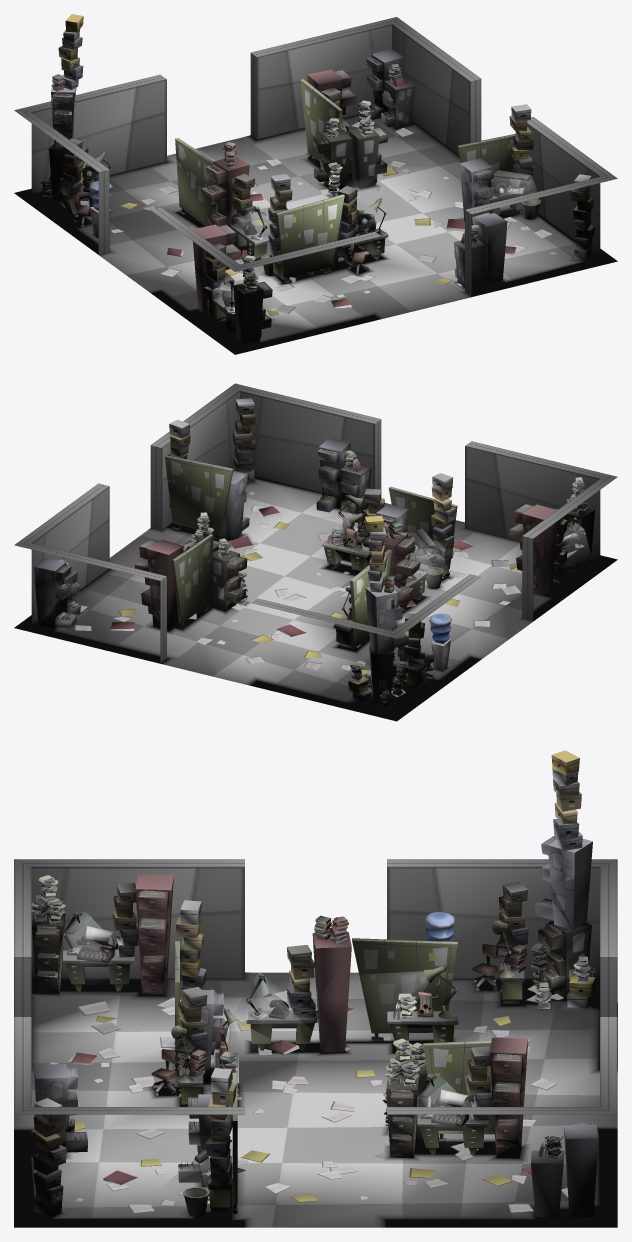
File: field_maze_quadrant2.glb
The picture shows the model from 3 angles, top to bottom: view 1: azimuth 30°, elevation 25°; view 2: azimuth 150°, elevation 25°; view 3: azimuth 270°, elevation 25°; orthographic projection. The views are drawn at different scales.
Visible parts, largest first — view 1: maze_floor, maze1_grouping1, maze3_grouping3, maze2_grouping2, maze6_grouping6, maze4_grouping4, maze5_grouping5, maze7_floorPaperGrouping, maze4_floorShadow_grouping4, maze3_floorShadow_grouping3, maze2_floorShadow_grouping2, maze1_floorShadow_grouping1 (+4 smaller); view 2: maze_floor, maze3_grouping3, maze1_grouping1, maze4_grouping4, maze2_grouping2, maze6_grouping6, maze7_floorPaperGrouping, maze5_grouping5, maze2_floorShadow_grouping2, maze1_floorShadow_grouping1, maze4_floorShadow_grouping4, maze6_lightConeSm (+8 smaller); view 3: maze_floor, maze2_grouping2, maze4_grouping4, maze1_grouping1, maze5_grouping5, maze3_grouping3, maze7_floorPaperGrouping, maze6_grouping6, maze1_floorShadow_grouping1, maze3_floorShadow_grouping3, maze4_floorShadow_grouping4, maze2_floorShadow_grouping2 (+9 smaller).
Boxes of the visible parts, x1,y1,x2,y2 form: maze_floor: (14,116,617,354); maze1_grouping1: (250,17,481,196); maze3_grouping3: (454,104,617,296); maze2_grouping2: (14,14,166,254); maze6_grouping6: (261,174,388,284); maze4_grouping4: (151,207,380,343); maze5_grouping5: (175,138,268,260); maze7_floorPaperGrouping: (61,122,556,320); maze4_floorShadow_grouping4: (149,287,385,354); maze3_floorShadow_grouping3: (452,206,617,297); maze2_floorShadow_grouping2: (14,156,175,256); maze1_floorShadow_grouping1: (243,115,460,197); maze_floor: (14,479,615,721); maze3_grouping3: (150,383,381,541); maze1_grouping1: (14,483,248,663); maze4_grouping4: (465,441,617,620); maze2_grouping2: (251,515,480,708); maze6_grouping6: (321,473,457,588); maze7_floorPaperGrouping: (74,491,520,697); maze5_grouping5: (333,521,427,649); maze2_floorShadow_grouping2: (245,653,483,721); maze1_floorShadow_grouping1: (14,568,250,664); maze4_floorShadow_grouping4: (458,525,617,622); maze6_lightConeSm: (310,517,351,554); maze_floor: (14,972,617,1227); maze2_grouping2: (387,750,617,1016); maze4_grouping4: (14,859,244,1016); maze1_grouping1: (382,1017,617,1217); maze5_grouping5: (246,915,458,1052); maze3_grouping3: (14,1017,244,1217); maze7_floorPaperGrouping: (67,985,568,1213); maze6_grouping6: (151,900,239,1106); maze1_floorShadow_grouping1: (375,1124,617,1227); maze3_floorShadow_grouping3: (14,1127,252,1227); maze4_floorShadow_grouping4: (31,972,251,1072); maze2_floorShadow_grouping2: (452,979,617,1073).
Bounding box in the file's own units: 51 × 22.72 × 51.02.
Materials: 10 (7 with a texture image).
